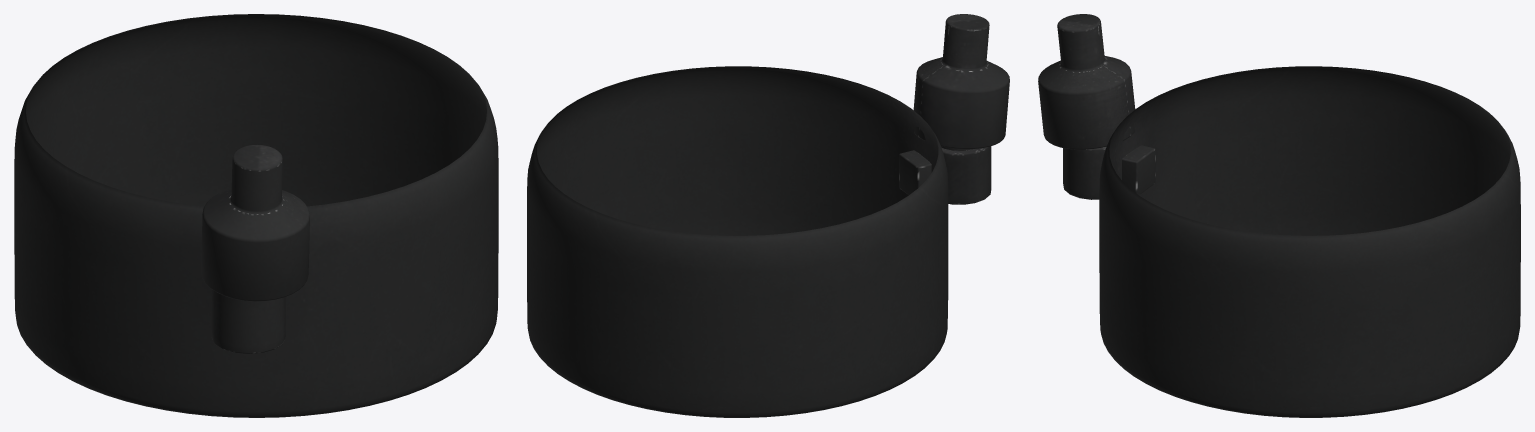
3 renders of one model, left to right at view 1: azimuth 30°, elevation 25°; view 2: azimuth 150°, elevation 25°; view 3: azimuth 270°, elevation 25°, orthographic. The views are drawn at different scales.
Parts seen in each view (by area): view 1: Object_15; view 2: Object_15; view 3: Object_15.
Part boxes in pixels (x1,y1,x2,y2): Object_15: [14, 14, 498, 417]; Object_15: [527, 14, 1009, 417]; Object_15: [1038, 14, 1520, 417].
Bounding box in the file's own units: 0.2289 × 0.1531 × 0.2622.
1 material, 1 textured.
